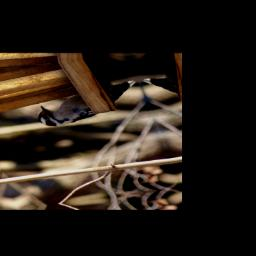Woodpecker: (19, 57, 148, 129)
